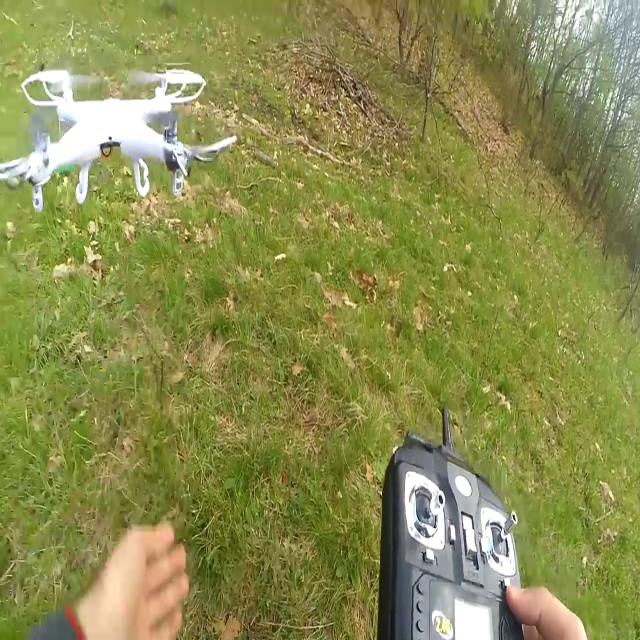drones: (3, 52, 239, 213)
